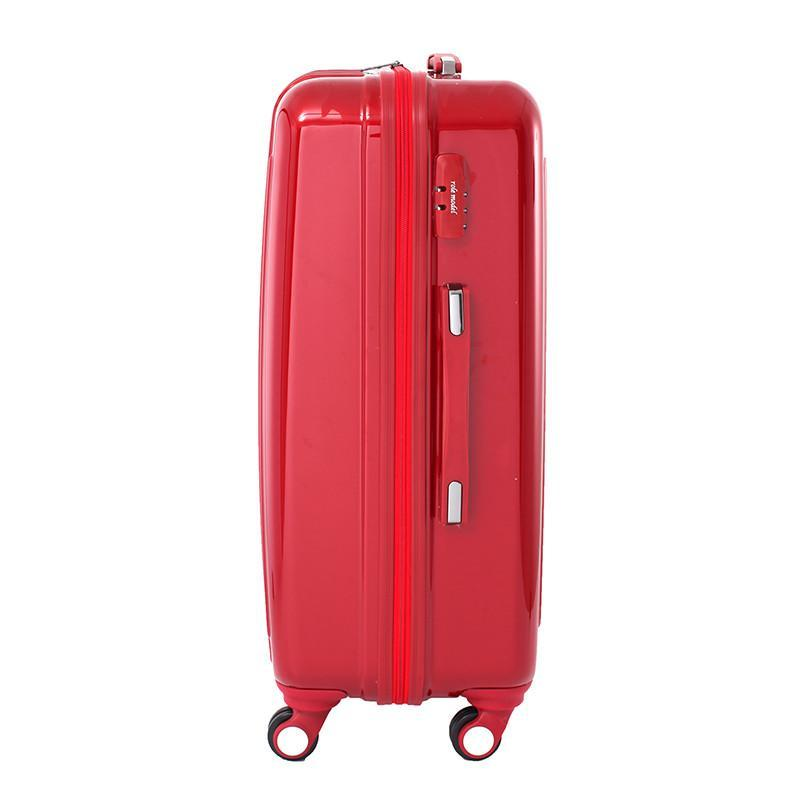luggage: (256, 52, 549, 761)
